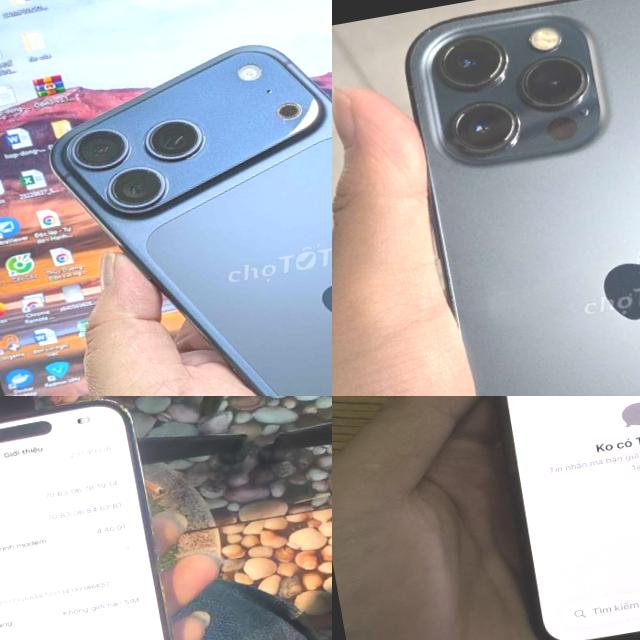gen_12_13: (389, 0, 640, 396)
gen_14: (0, 396, 198, 640)
gen_17: (33, 0, 332, 396)
gen_x_xs: (466, 396, 640, 640)
physical_damage: (154, 615, 198, 640)
scratch: (95, 396, 146, 424)
